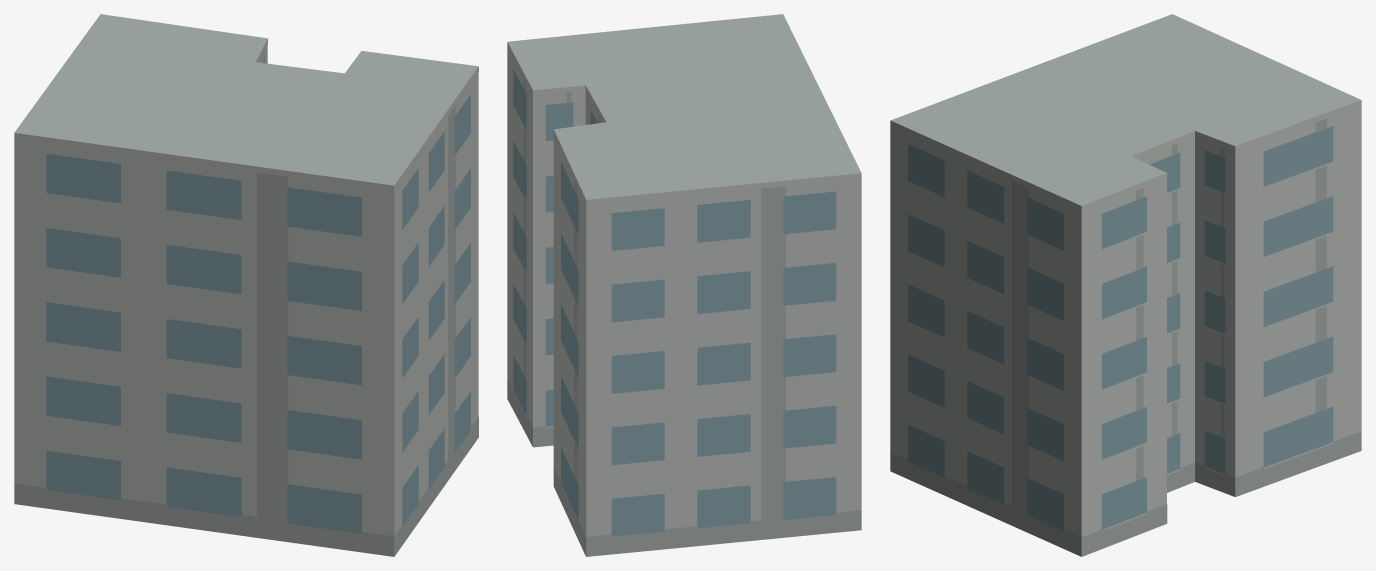
The model's file is survey-upis-32683659.glb.
3 views of the same model, side by side, from view 1: azimuth 30°, elevation 25°; view 2: azimuth 150°, elevation 25°; view 3: azimuth 270°, elevation 25° (orthographic). The views are drawn at different scales.
Visible parts, largest first — view 1: survey-upis-32683659.tmp; view 2: survey-upis-32683659.tmp; view 3: survey-upis-32683659.tmp.
Part boxes in pixels (box(x1,y1,x2,y2)): survey-upis-32683659.tmp: box(14, 14, 478, 556); survey-upis-32683659.tmp: box(507, 14, 861, 556); survey-upis-32683659.tmp: box(890, 14, 1361, 556).
Bounding box in the file's own units: 17.5 × 14.9 × 18.14.
